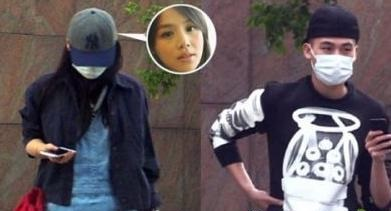face: (156, 14, 202, 70)
face_mask: (311, 35, 356, 86)
